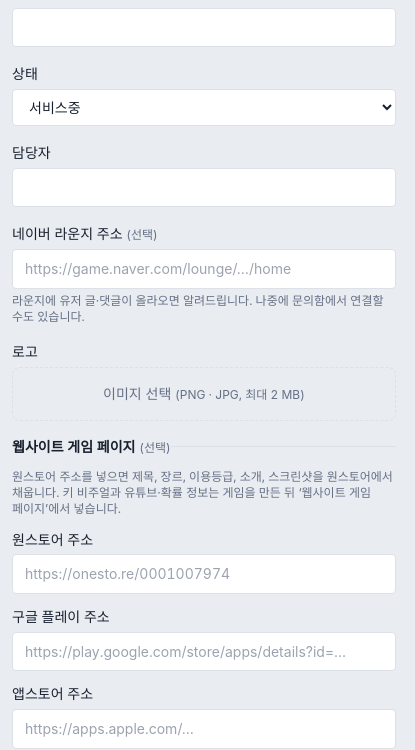
Test case: GameForm › sends the lounge url and warns when the lounge could not be connected
The image size is (415, 750).
Type "여신키우기" into the field labelled "게임명" at (204, 28), box [12, 8, 396, 47]
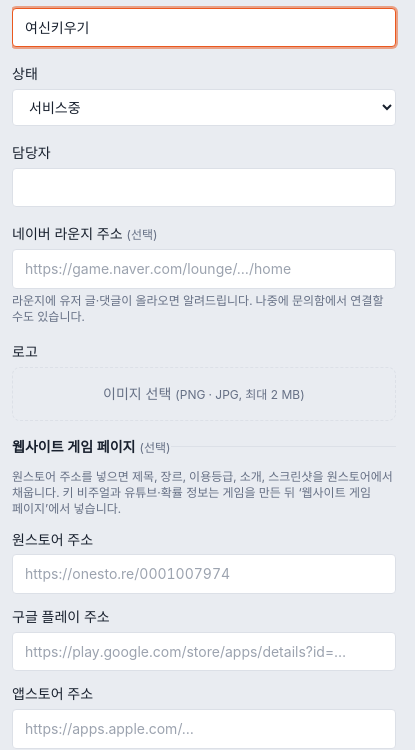
Type "https://game.naver.com/lounge/Abc/home" into the field labelled "네이버 라운지 주소" at (204, 269), box [12, 249, 396, 289]
(page scrolled)
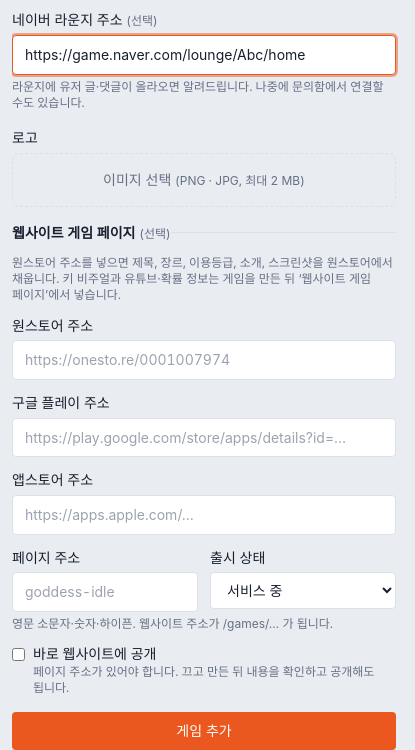
Click the button "게임 추가" at (204, 731), box [12, 712, 396, 749]
(page scrolled)
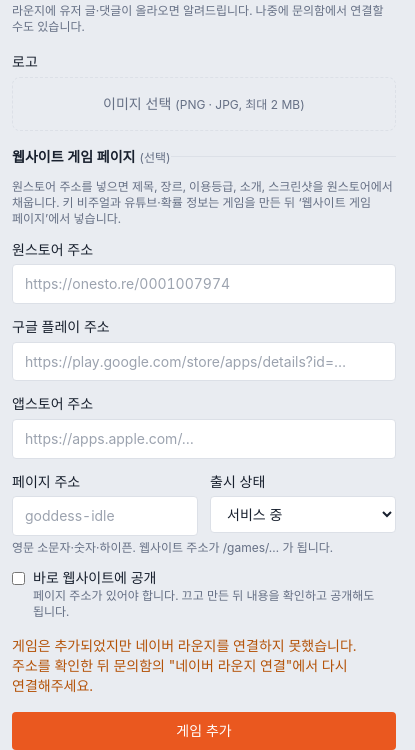
Expected: the text "게임은 추가되었지만 네이버 라운지를 연결하지 못했습니다. 주소를 확인한 뒤 문의함의 \"네이버 라운지 연결\"에서 다시 연결해주세요." is shown, [12, 636, 396, 696]
